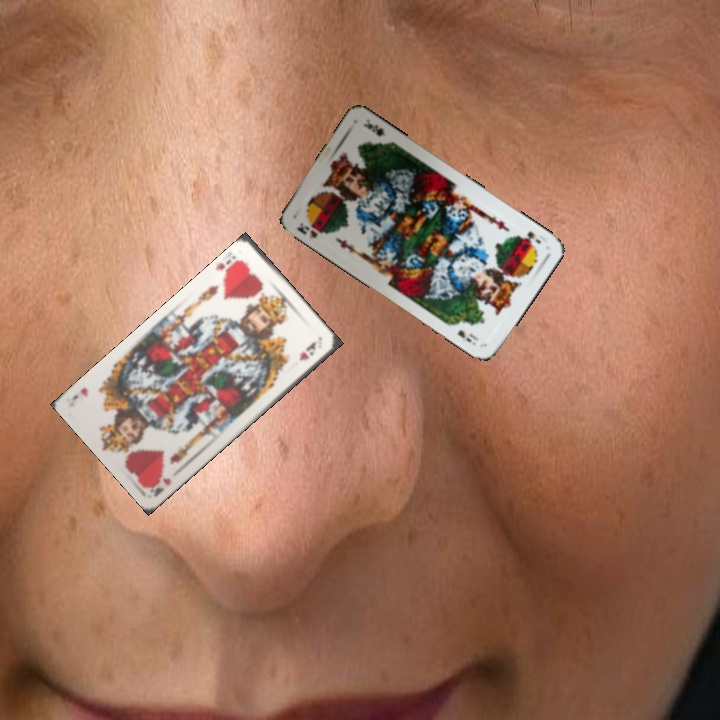HK: (217, 251, 246, 283), (145, 471, 174, 499)
SK: (292, 218, 330, 242), (520, 227, 544, 246)
